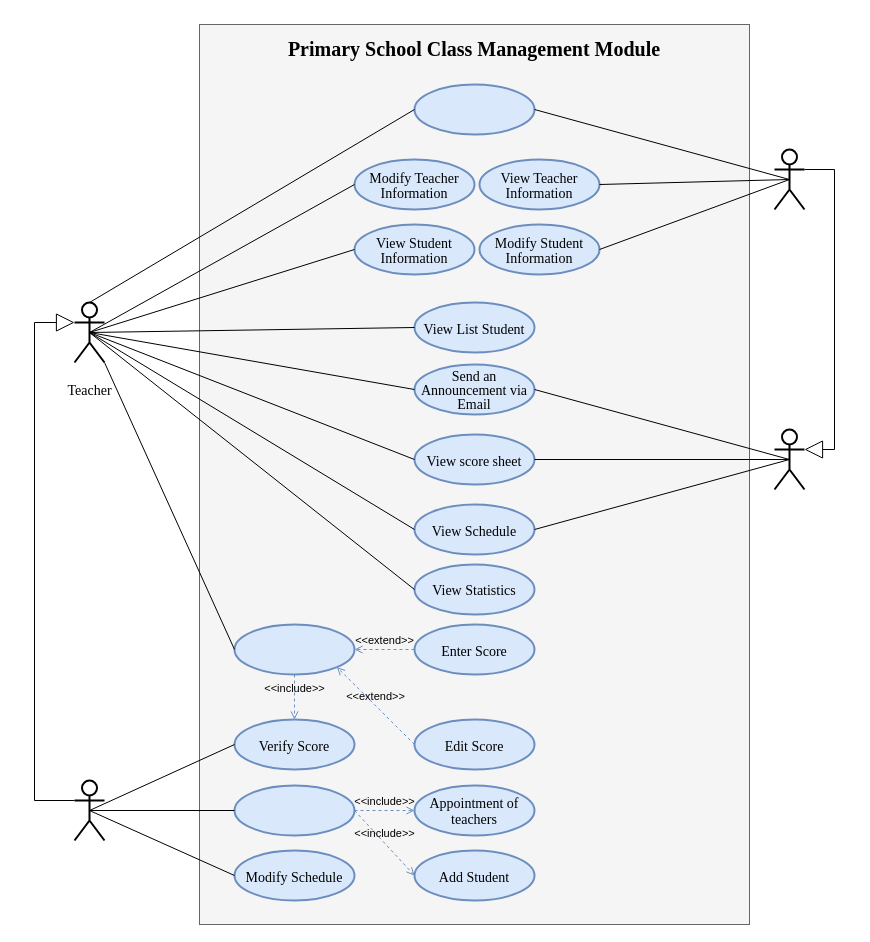
Image size: 870x942. Some labels were removed from this diagram. Here are the shapes that lost their labels. From the top down, the centre of each, then its label:
the point at 474,109: Check Attendance
the point at 789,179: Parent
the point at 789,459: Student
the point at 294,649: Modify Score Sheet
the point at 89,810: Principal
the point at 294,810: Create Class
